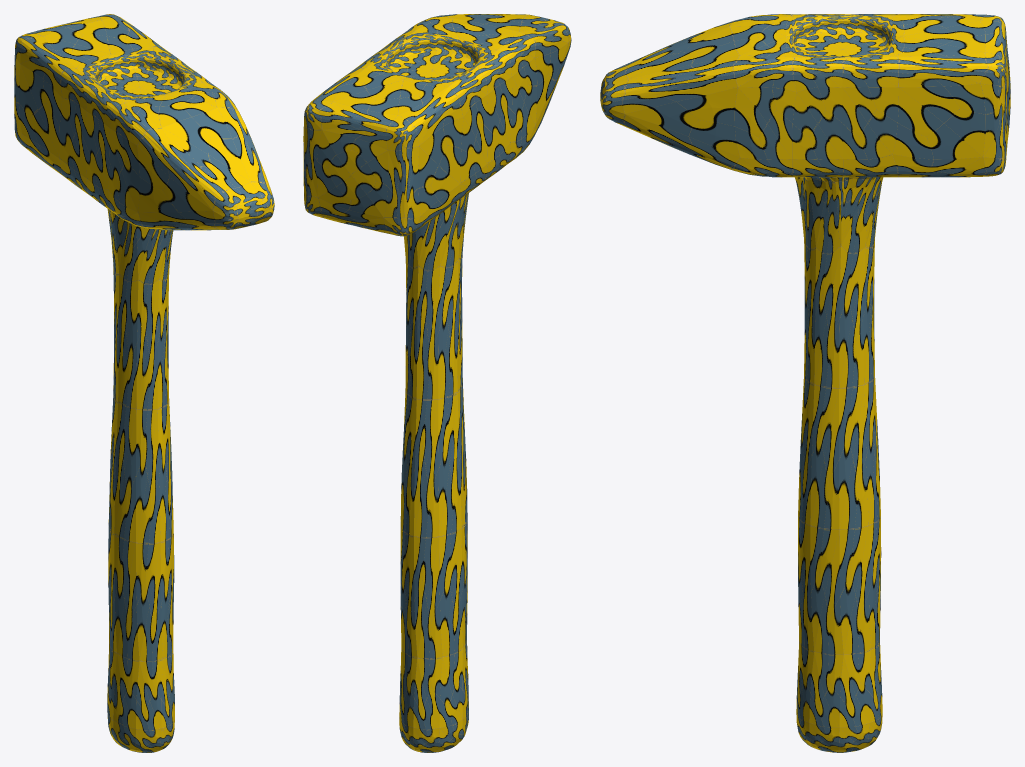
The model's file is Hammer.fbx.
The picture shows the model from 3 angles, left to right: view 1: azimuth 30°, elevation 25°; view 2: azimuth 150°, elevation 25°; view 3: azimuth 270°, elevation 25°; orthographic projection. The views are drawn at different scales.
Visible parts, largest first — view 1: Hammer; view 2: Hammer; view 3: Hammer.
Part boxes in pixels (x1,y1,x2,y2): Hammer: (14, 14, 274, 752); Hammer: (303, 14, 571, 752); Hammer: (600, 14, 1010, 752).
Size of the model in its own units: 13.86 by 82.28 by 43.1.
1 material, 1 textured.
